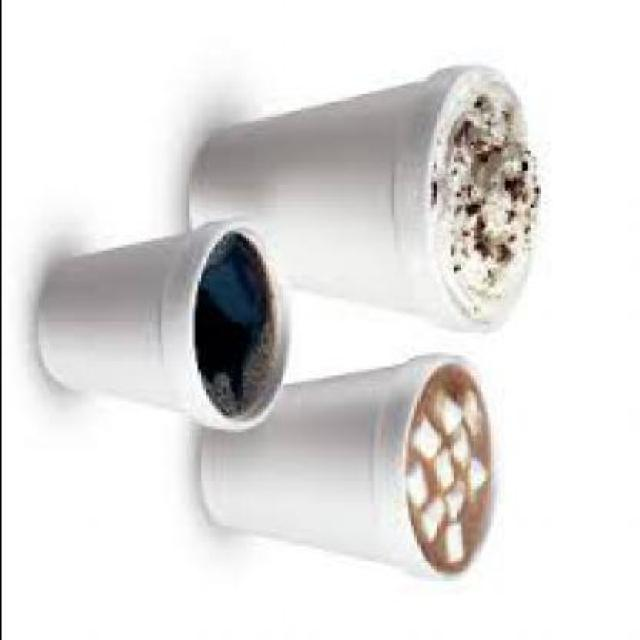BIODEGRADABLE: (432, 79, 537, 327), (412, 373, 490, 578), (198, 239, 282, 418)
PLASTIC: (188, 69, 543, 333), (193, 361, 501, 577), (40, 231, 298, 435)
